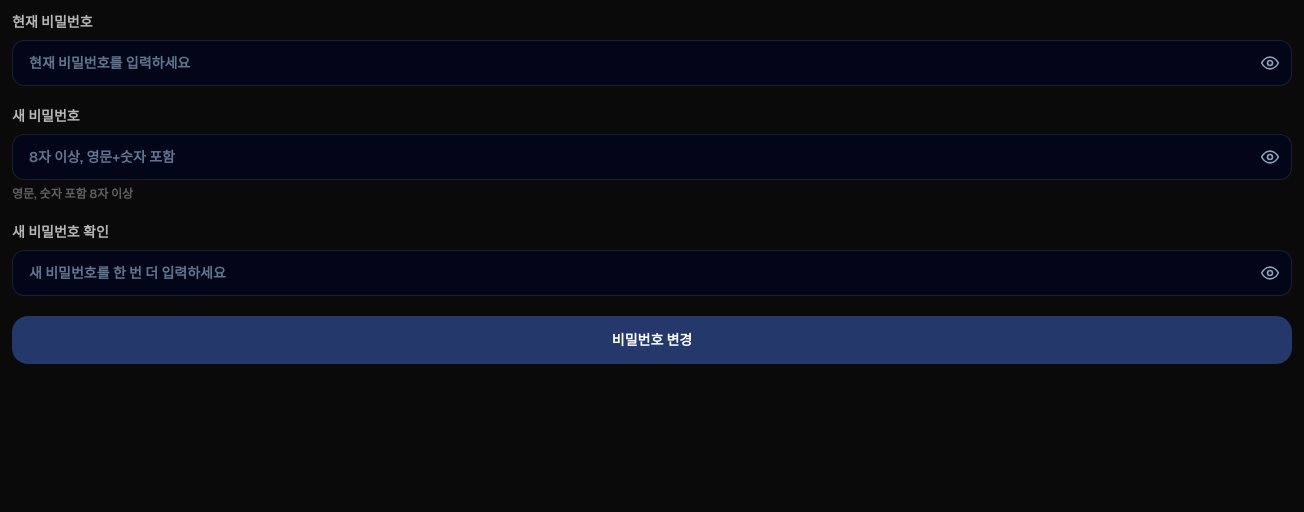
Test case: PasswordChangeForm — 성공 화면 › 실패하면 에러 메시지를 표시한다
This screenshot has width=1304, height=512.
Type "wrongPass1" into the password field with placeholder "현재 비밀번호를 입력하세요" at (652, 63), box [12, 40, 1292, 86]
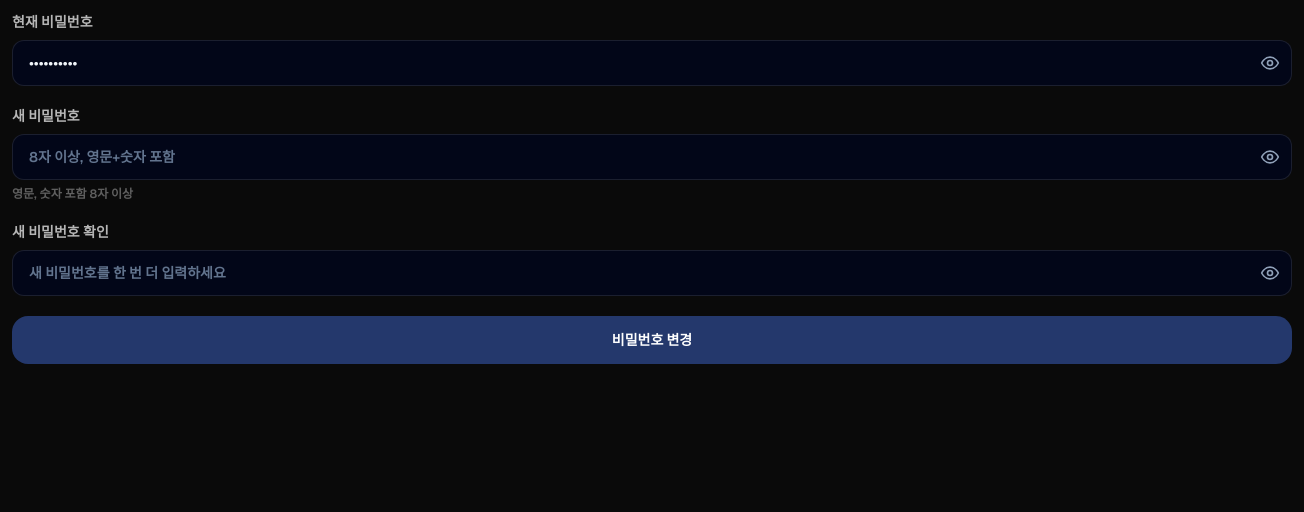
Type "newPass1" into the password field with placeholder "8자 이상, 영문+숫자 포함" at (652, 157), box [12, 134, 1292, 180]
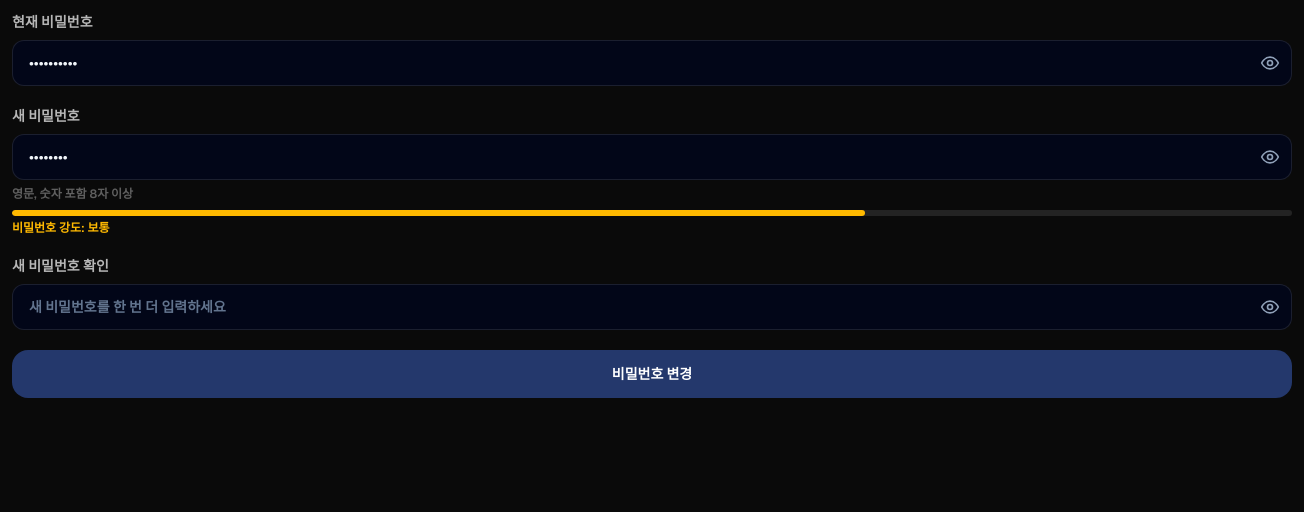
Type "newPass1" into the password field with placeholder "새 비밀번호를 한 번 더 입력하세요" at (652, 307), box [12, 284, 1292, 330]
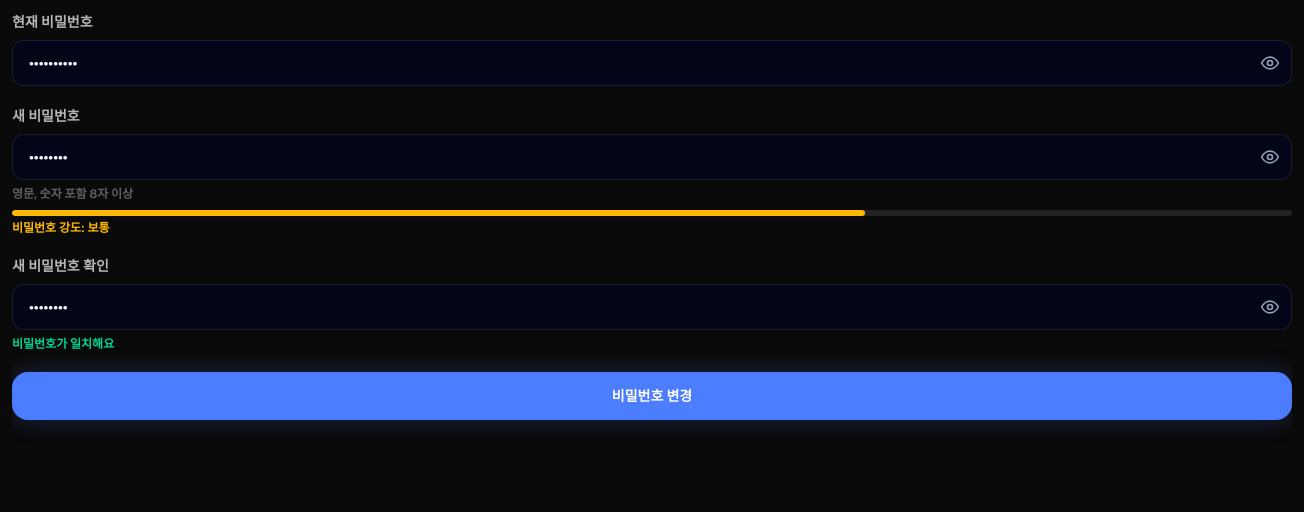
Click the button "비밀번호 변경" at (652, 396), box [12, 372, 1292, 420]
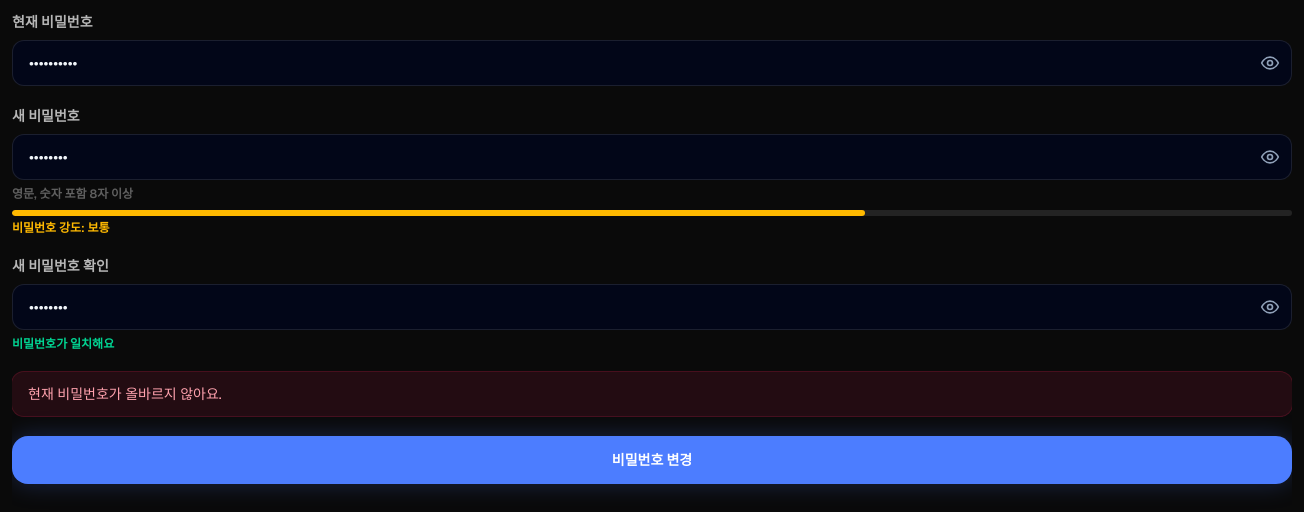
Expected: the text "현재 비밀번호가 올바르지 않아요." is shown, [12, 372, 1292, 416]
